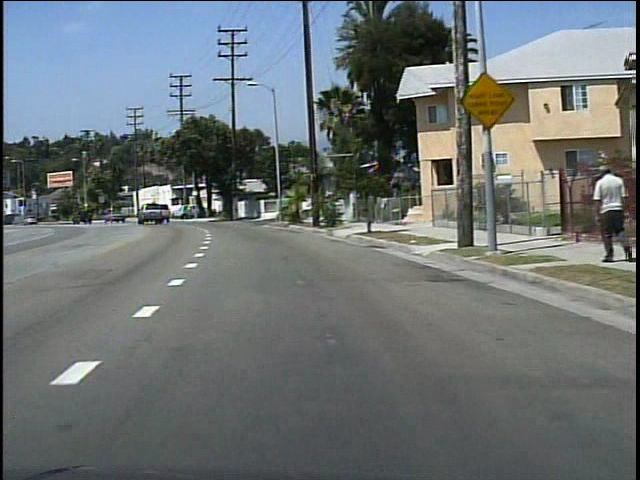person: (583, 163, 630, 266)
